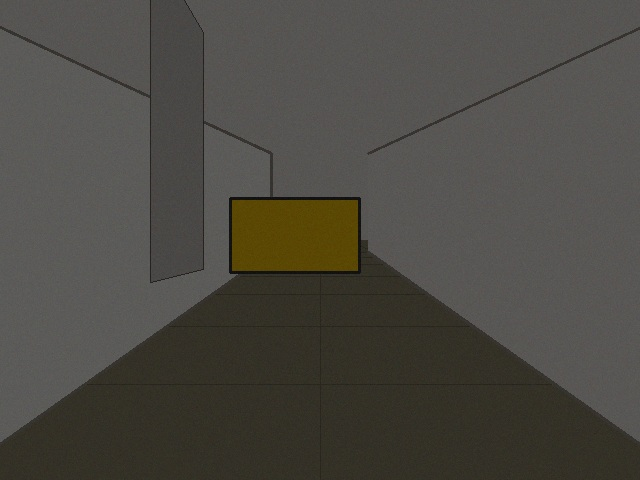forklift: (230, 198, 359, 272)
